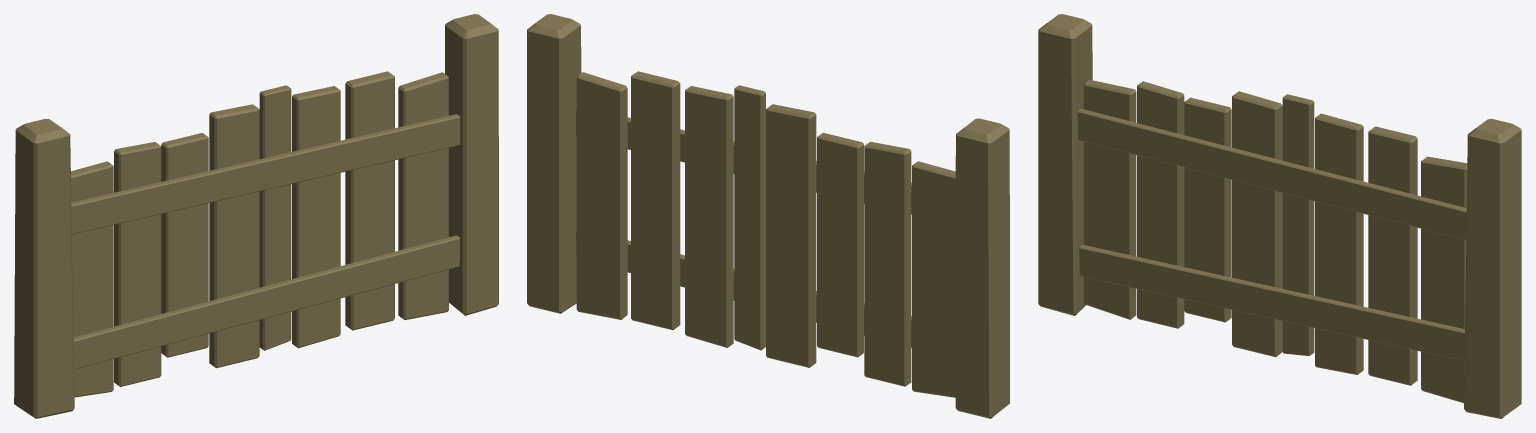
The model's file is Fence_main_v003.fbx.
The picture shows the model from 3 angles, left to right: view 1: azimuth 30°, elevation 25°; view 2: azimuth 150°, elevation 25°; view 3: azimuth 330°, elevation 25°; orthographic projection.
Parts seen in each view (by area): view 1: Fence_Main1_pCube11; view 2: Fence_Main1_pCube11; view 3: Fence_Main1_pCube11.
Boxes of the visible parts, x1=… form: Fence_Main1_pCube11: x1=14, y1=14, x2=498, y2=418; Fence_Main1_pCube11: x1=527, y1=14, x2=1009, y2=418; Fence_Main1_pCube11: x1=1038, y1=14, x2=1521, y2=418.
Size of the model in its own units: 2.06 by 1.19 by 0.1741.
